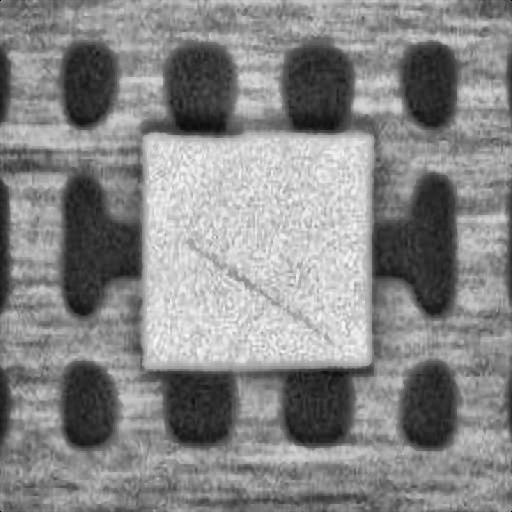DIE_CRACK: (276, 159, 493, 225)
